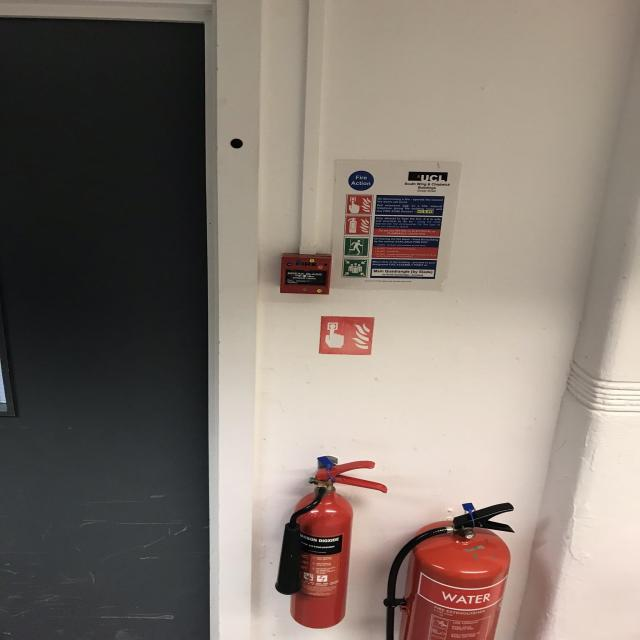fire_extinguisher: (267, 458, 393, 630), (372, 498, 521, 640)
